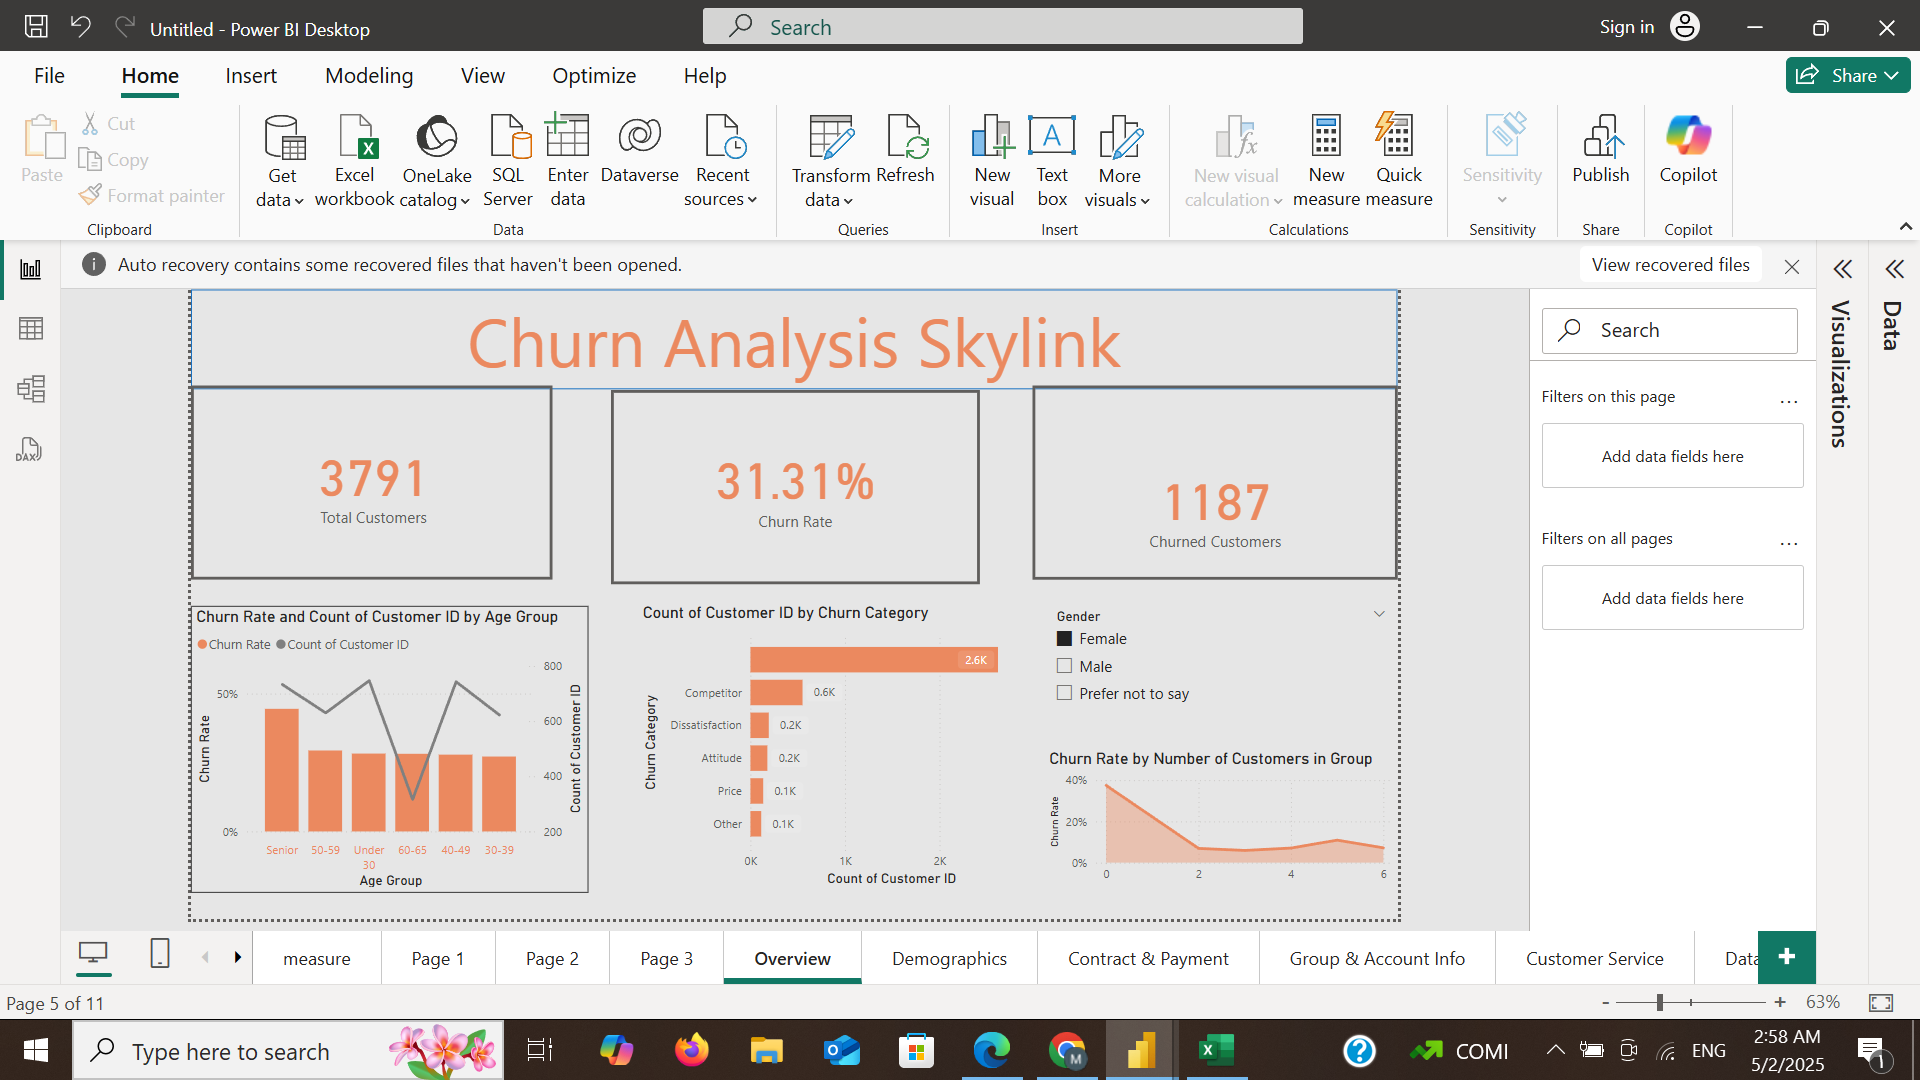

What the dashboard file says about the page in this screenshot:
{"tool":"powerbi","page":{"name":"Overview","canvas":[1280,720],"ordinal":4},"visuals":[{"type":"card","fields":{"Values":["SkyLink - Dataset.Churn Rate"]},"box":[446,158.7,391.2,200.3],"z":0},{"type":"card","fields":{"Values":["SkyLink - Dataset.Total Customers"]},"box":[1.9,153.1,383.6,206],"z":1},{"type":"card","fields":{"Values":["SkyLink - Dataset.Churned Customers"]},"box":[892,177.6,387.4,206],"z":2},{"type":"shape","box":[0,52.9,1279.4,105.8],"z":4},{"type":"actionButton","box":[0,155,383.6,206],"z":5},{"type":"actionButton","box":[446,158.7,391.2,206],"z":6},{"type":"actionButton","box":[892,155,387.4,206],"z":7},{"type":"lineStackedColumnComboChart","fields":{"Category":["SkyLink - Dataset.Age Group"],"Y":["SkyLink - Dataset.Churn Rate"],"Y2":["CountNonNull(SkyLink - Dataset.Customer ID)"]},"box":[0,387.4,421.4,304.3],"z":8},{"type":"barChart","fields":{"Category":["SkyLink - Dataset.Churn Category"],"Y":["CountNonNull(SkyLink - Dataset.Customer ID)"]},"box":[474.3,385.5,430.9,304.3],"z":9},{"type":"slicer","fields":{"Values":["SkyLink - Dataset.Gender"]},"box":[905.2,385.5,374.2,153.1],"z":10},{"type":"areaChart","fields":{"Category":["SkyLink - Dataset.Number of Customers in Group"],"Y":["SkyLink - Dataset.Churn Rate"]},"box":[905,539,374,151],"z":11}]}

Visuals, with their boxes on the page's 1280x720 design canvas (x1, y1, x2, y2). These are canvas units, not pixel positions in the 1920x1080 screenshot, which may show the page scaled, cropped or inside an application window:
card - SkyLink - Dataset.Churn Rate: x1=446 y1=159 x2=837 y2=359
card - SkyLink - Dataset.Total Customers: x1=2 y1=153 x2=386 y2=359
card - SkyLink - Dataset.Churned Customers: x1=892 y1=178 x2=1279 y2=384
shape: x1=0 y1=53 x2=1279 y2=159
actionButton: x1=0 y1=155 x2=384 y2=361
actionButton: x1=446 y1=159 x2=837 y2=365
actionButton: x1=892 y1=155 x2=1279 y2=361
lineStackedColumnComboChart - SkyLink - Dataset.Age Group x SkyLink - Dataset.Churn Rate: x1=0 y1=387 x2=421 y2=692
barChart - SkyLink - Dataset.Churn Category x CountNonNull(SkyLink - Dataset.Customer ID): x1=474 y1=386 x2=905 y2=690
slicer - SkyLink - Dataset.Gender: x1=905 y1=386 x2=1279 y2=539
areaChart - SkyLink - Dataset.Number of Customers in Group x SkyLink - Dataset.Churn Rate: x1=905 y1=539 x2=1279 y2=690
